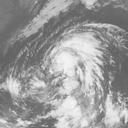cyclone: (41, 34, 101, 99)
